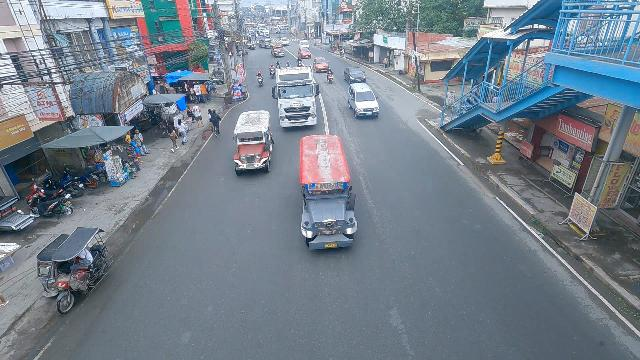car: (346, 82, 380, 120), (342, 66, 367, 85), (312, 57, 330, 73), (297, 47, 312, 59)
jeepney: (298, 134, 359, 253), (231, 109, 273, 176), (269, 42, 285, 58), (258, 39, 273, 48), (245, 40, 254, 50)
motorcycle: (255, 70, 265, 88), (325, 68, 334, 86), (269, 64, 275, 80), (296, 56, 303, 68), (274, 59, 280, 69), (285, 61, 291, 69)
truck: (273, 68, 321, 131)
van: (280, 37, 289, 46), (299, 40, 309, 48)
